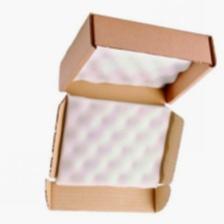foam_box: (53, 90, 176, 191), (69, 43, 198, 92)
